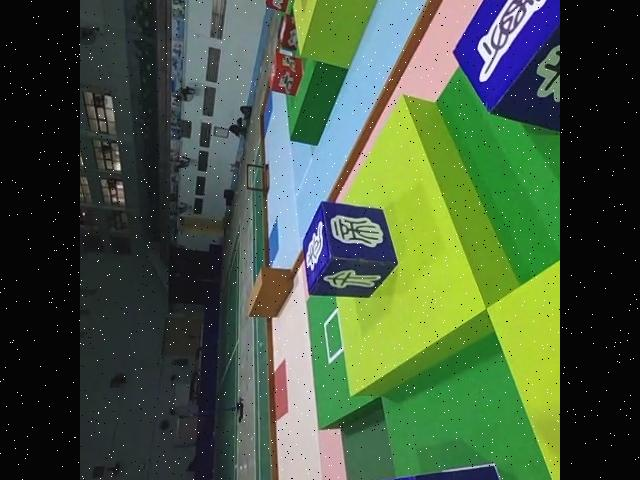R2 Fake Blue: (455, 0, 560, 122), (303, 198, 400, 295), (371, 460, 530, 480)
